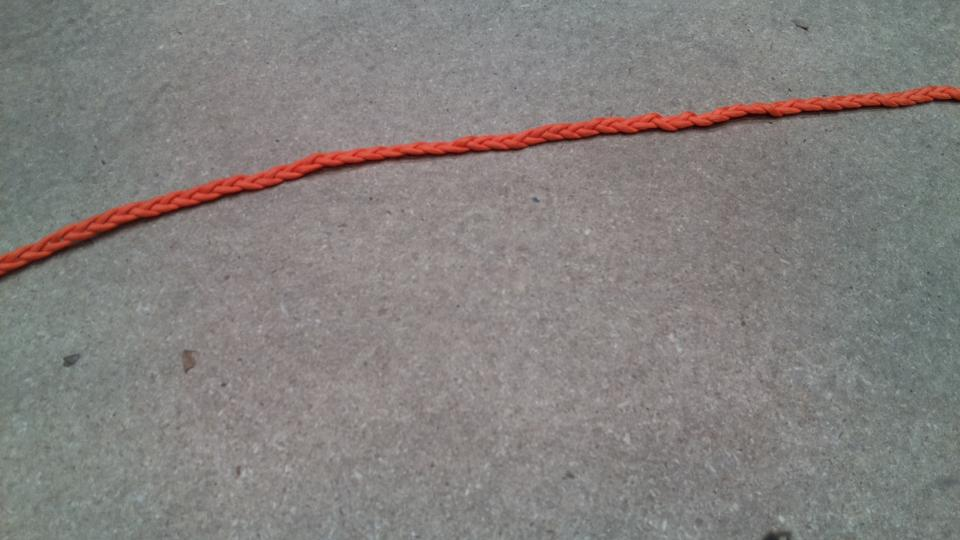rope: (1, 80, 957, 270)
